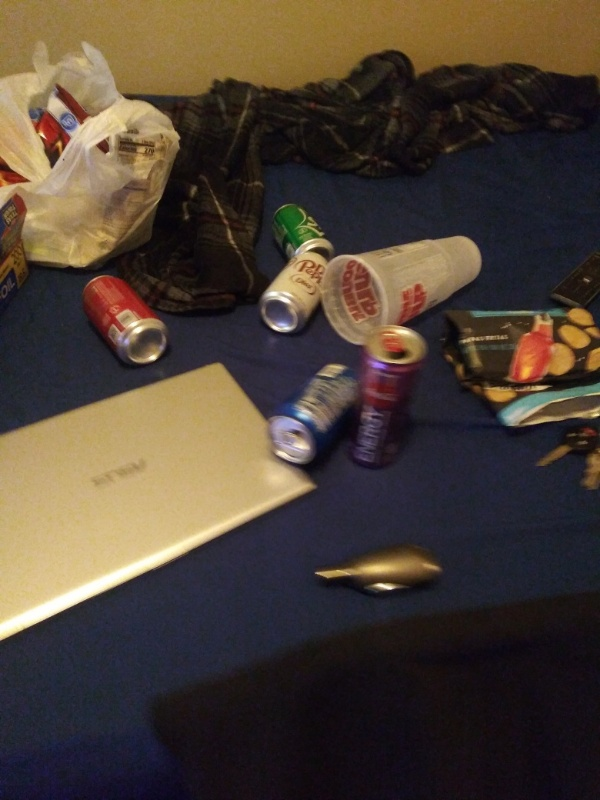can: (346, 322, 431, 472), (263, 361, 364, 467), (79, 270, 171, 363), (258, 248, 335, 338), (266, 199, 342, 265)
